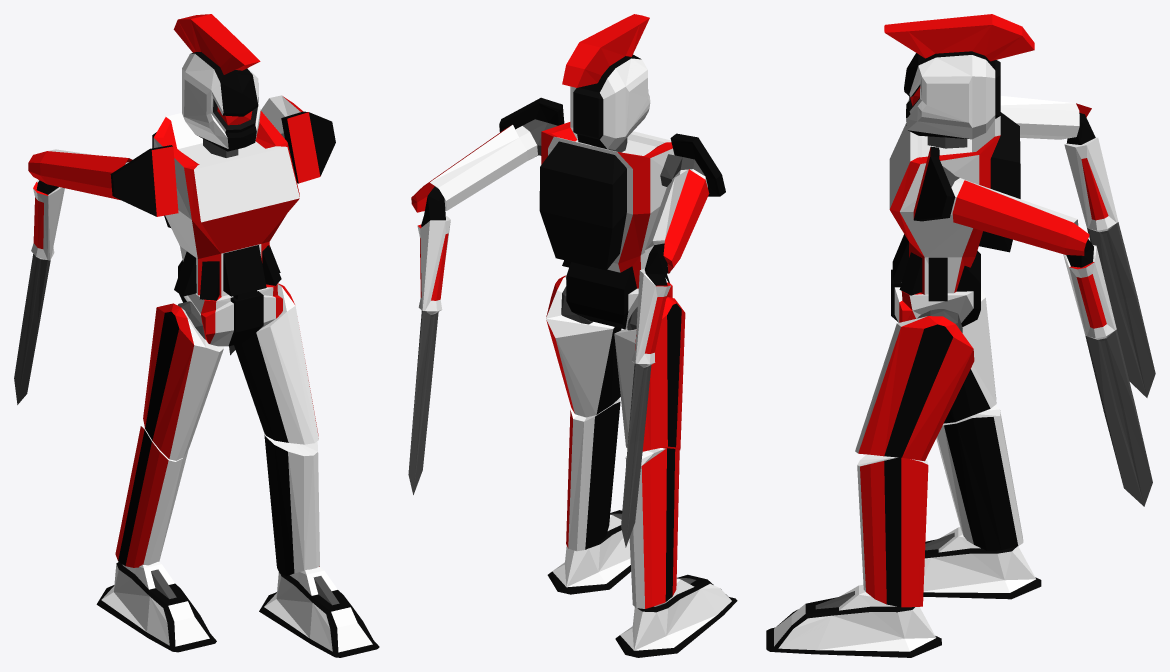
Rendered from robots_000025.obj.
3 renders of one model, left to right at view 1: azimuth 30°, elevation 25°; view 2: azimuth 150°, elevation 25°; view 3: azimuth 270°, elevation 25°, orthographic. The views are drawn at different scales.
Visible parts, largest first — view 1: Chest_plate_Cube.004, Head_gladiator_Cube.024, R_Thigh_Cube.005, R_Thigh.002_Cube.027, R_Forearm.001_Cube.028, R_Shin.002_Cube.029, R_Foot_Cube, R_Foot.002_Cube.035, R_Shin_Cube.007, Pelvis_Cube.006, R_Arm.002_Cube.032, R_Arm.003_Cube.034 (+1 smaller); view 2: Chest_plate_Cube.004, R_Forearm.002_Cube.033, R_Forearm.001_Cube.028, Head_gladiator_Cube.024, R_Shin_Cube.007, R_Shin.002_Cube.029, R_Thigh_Cube.005, R_Thigh.002_Cube.027, R_Foot_Cube, Pelvis_Cube.006, R_Foot.002_Cube.035, R_Arm.002_Cube.032 (+1 smaller); view 3: R_Forearm.002_Cube.033, Chest_plate_Cube.004, Head_gladiator_Cube.024, R_Thigh.002_Cube.027, R_Forearm.001_Cube.028, R_Shin.002_Cube.029, R_Shin_Cube.007, R_Foot.002_Cube.035, R_Foot_Cube, R_Thigh_Cube.005, Pelvis_Cube.006, R_Arm.003_Cube.034.
Boxes of the visible parts, x1,y1,x2,y2 form: Chest_plate_Cube.004: [152, 111, 299, 300]; Head_gladiator_Cube.024: [173, 14, 260, 151]; R_Thigh_Cube.005: [143, 303, 224, 460]; R_Thigh.002_Cube.027: [234, 283, 318, 444]; R_Forearm.001_Cube.028: [14, 149, 132, 404]; R_Shin.002_Cube.029: [264, 434, 319, 576]; R_Foot_Cube: [96, 561, 216, 652]; R_Foot.002_Cube.035: [259, 567, 379, 657]; R_Shin_Cube.007: [115, 426, 188, 567]; Pelvis_Cube.006: [178, 260, 282, 346]; R_Arm.002_Cube.032: [110, 145, 178, 216]; R_Arm.003_Cube.034: [281, 111, 335, 183]; Chest_plate_Cube.004: [539, 122, 674, 288]; R_Forearm.002_Cube.033: [408, 124, 527, 494]; R_Forearm.001_Cube.028: [621, 169, 709, 547]; Head_gladiator_Cube.024: [562, 14, 650, 149]; R_Shin_Cube.007: [625, 447, 679, 608]; R_Shin.002_Cube.029: [566, 398, 620, 551]; R_Thigh_Cube.005: [614, 297, 685, 451]; R_Thigh.002_Cube.027: [546, 275, 621, 417]; R_Foot_Cube: [615, 574, 737, 657]; Pelvis_Cube.006: [565, 262, 672, 329]; R_Foot.002_Cube.035: [547, 510, 630, 594]; R_Arm.002_Cube.032: [660, 133, 725, 196]; R_Forearm.002_Cube.033: [952, 180, 1152, 506]; Chest_plate_Cube.004: [889, 112, 1020, 301]; Head_gladiator_Cube.024: [884, 14, 1034, 139]; R_Thigh.002_Cube.027: [855, 316, 974, 461]; R_Forearm.001_Cube.028: [1000, 96, 1155, 397]; R_Shin.002_Cube.029: [857, 454, 928, 607]; R_Shin_Cube.007: [936, 405, 1023, 550]; R_Foot.002_Cube.035: [766, 585, 941, 657]; R_Foot_Cube: [923, 527, 1041, 599]; R_Thigh_Cube.005: [943, 288, 996, 423]; Pelvis_Cube.006: [891, 250, 980, 326]; R_Arm.003_Cube.034: [913, 146, 968, 221].
Size of the model in its own units: 1.51 by 3.17 by 1.87.
